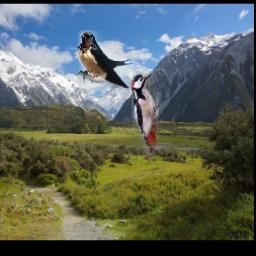Swallow: (78, 30, 155, 88)
Woodpecker: (133, 71, 160, 173)
